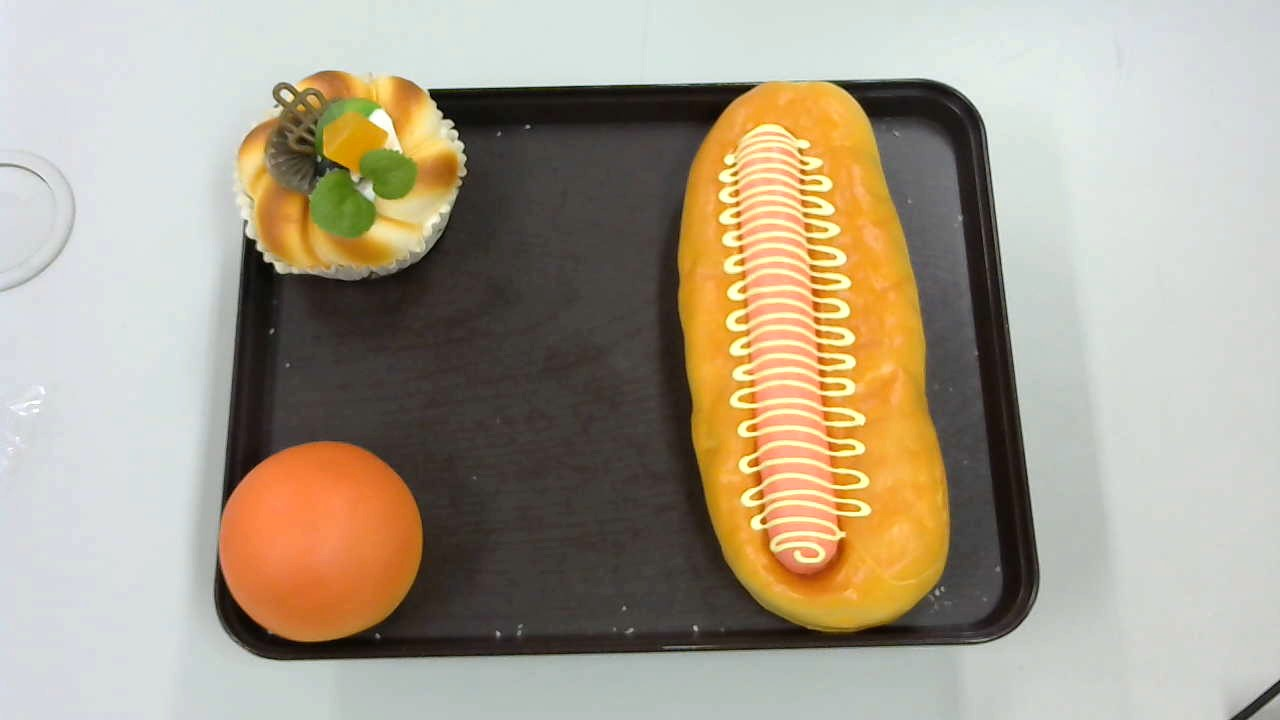bun: (218, 439, 423, 644)
fruit tart: (230, 70, 469, 281)
hot dog: (675, 81, 951, 639)
